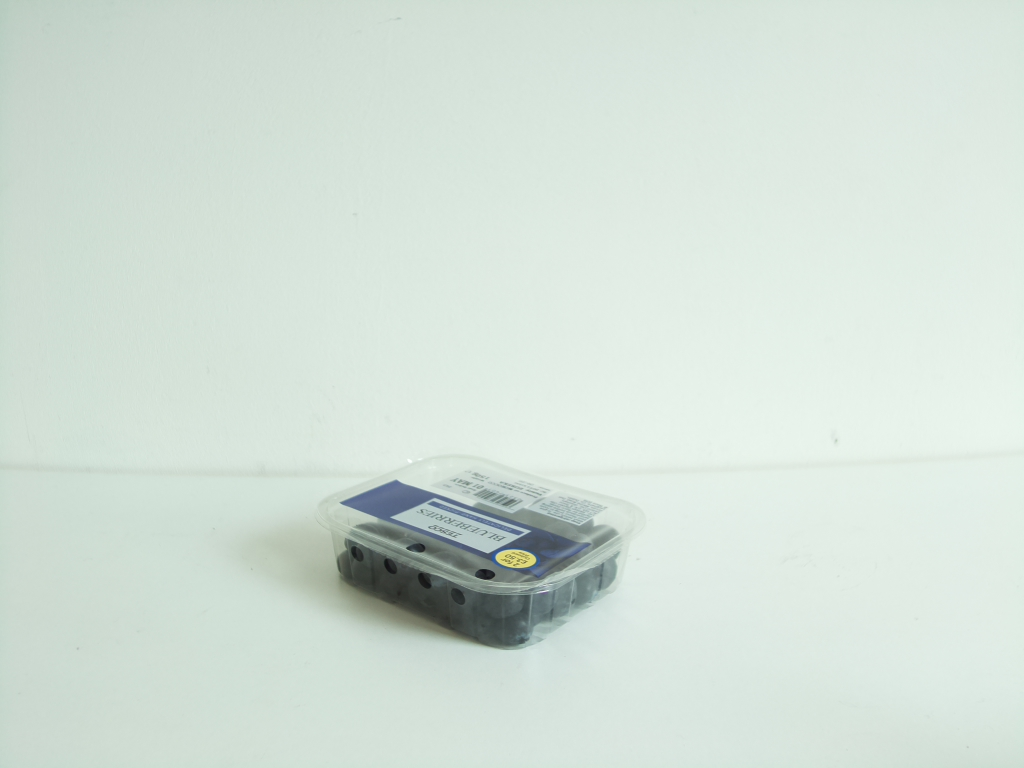soft-fruit: (324, 456, 638, 652)
